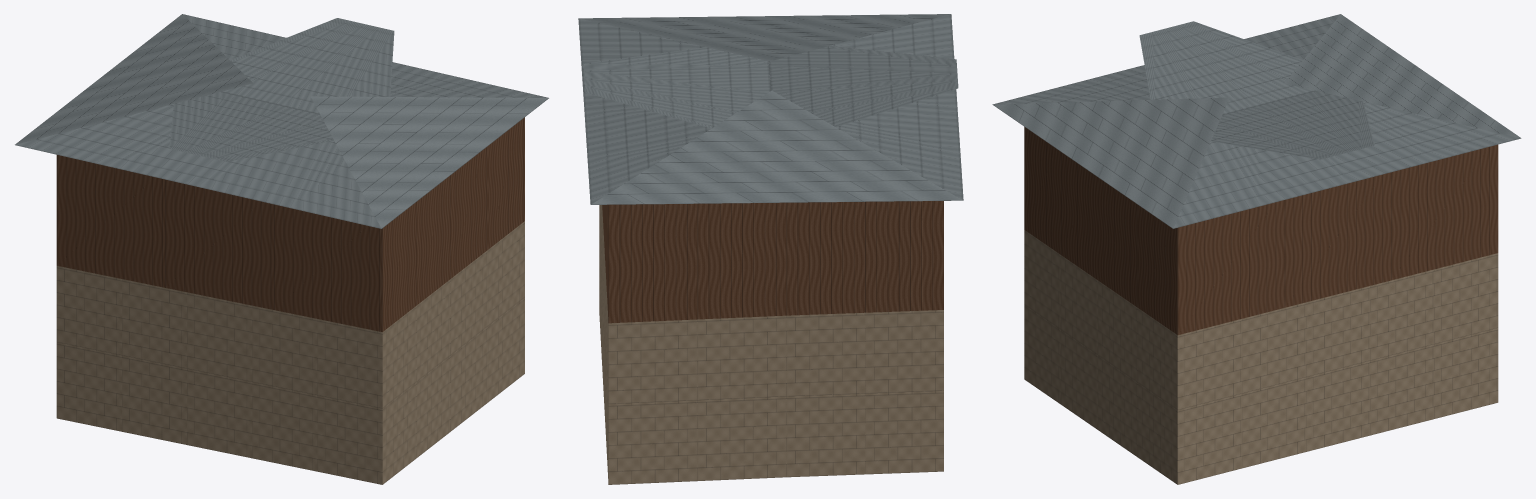
File: bld_c18_21_475.gltf
The picture shows the model from 3 angles, left to right: view 1: azimuth 30°, elevation 25°; view 2: azimuth 150°, elevation 25°; view 3: azimuth 270°, elevation 25°; orthographic projection. The views are drawn at different scales.
Parts seen in each view (by area): view 1: bld_c18_21_475; view 2: bld_c18_21_475; view 3: bld_c18_21_475.
Part boxes in pixels (<box>): bld_c18_21_475: <box>15,14,548,484</box>; bld_c18_21_475: <box>578,14,963,484</box>; bld_c18_21_475: <box>992,14,1521,484</box>.
Bounding box in the file's own units: 14.87 × 9.6 × 15.48.
3 materials, 3 textured.
